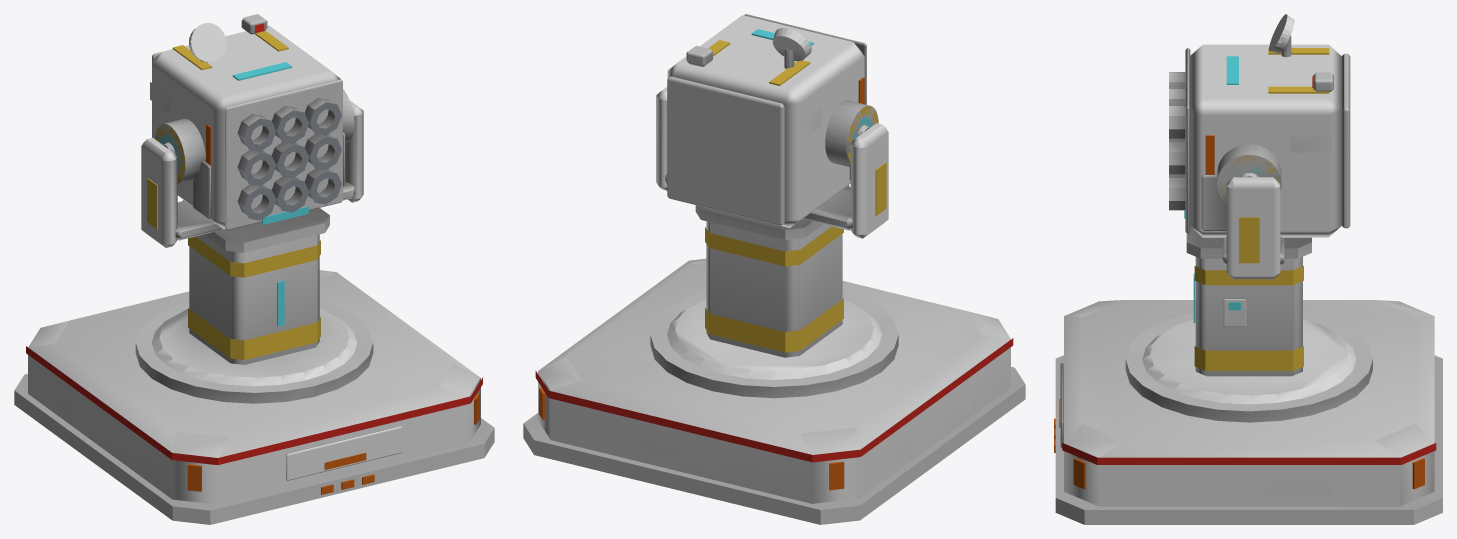
The model's file is mortar_2.glb.
The picture shows the model from 3 angles, left to right: view 1: azimuth 30°, elevation 25°; view 2: azimuth 150°, elevation 25°; view 3: azimuth 270°, elevation 25°; orthographic projection. The views are drawn at different scales.
Visible parts, largest first — view 1: Rumpf, Werfer, Saeule, Gelenk; view 2: Rumpf, Werfer, Saeule, Gelenk; view 3: Rumpf, Werfer, Saeule, Gelenk.
Boxes of the visible parts, x1,y1,x2,y2 form: Rumpf: [14, 270, 494, 524]; Werfer: [150, 14, 345, 230]; Saeule: [141, 100, 363, 364]; Gelenk: [154, 89, 354, 183]; Rumpf: [523, 258, 1025, 524]; Werfer: [667, 14, 866, 227]; Saeule: [656, 87, 888, 357]; Gelenk: [825, 100, 878, 167]; Rumpf: [1054, 300, 1442, 524]; Werfer: [1169, 14, 1350, 237]; Saeule: [1186, 177, 1311, 376]; Gelenk: [1217, 144, 1281, 203].
Bounding box in the file's own units: 0.94 × 1.1 × 0.944.
